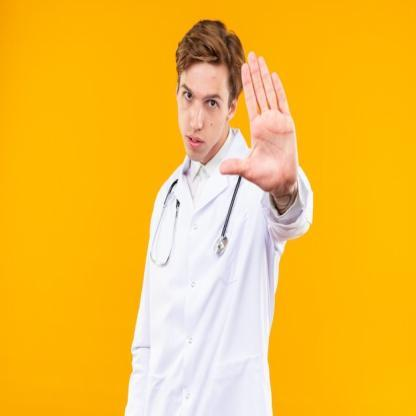stop: (216, 48, 308, 200)
